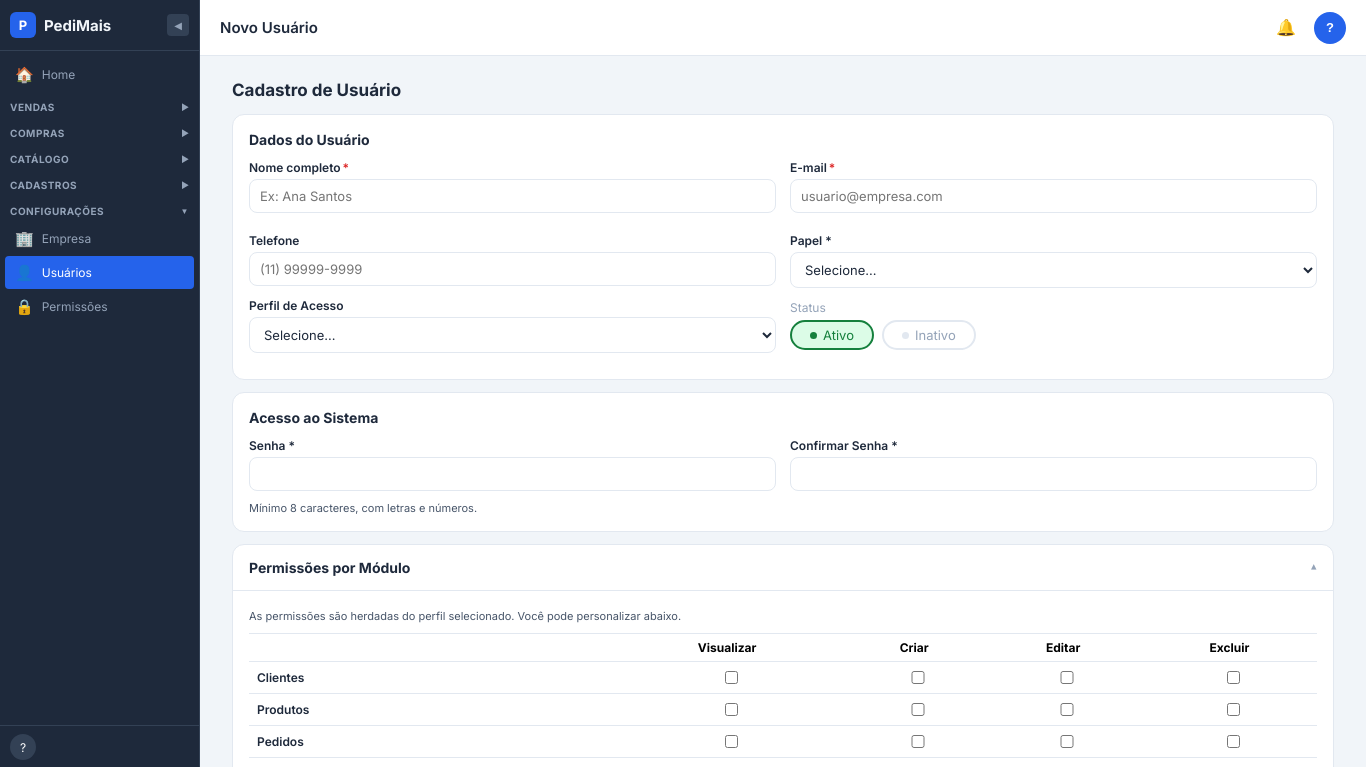
UserFormView › includes Compras e Contas a Pagar in the grid, pre-checked for the Admin profile
The image size is (1366, 767).
Select "Admin" in the dropdown with test id "profile" at (512, 335), box [249,317,776,353]
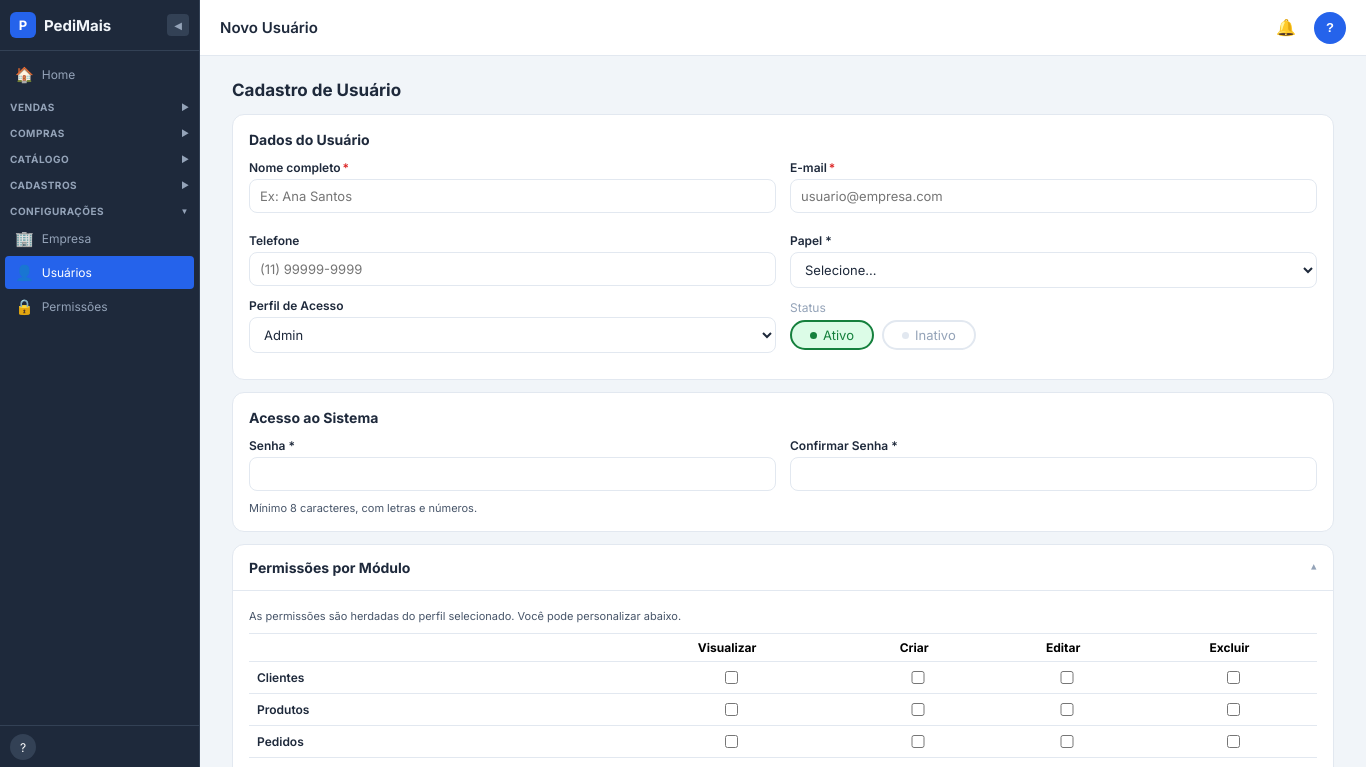
Select "Admin" in the dropdown with test id "profile" at (512, 335), box [249,317,776,353]
(page scrolled)
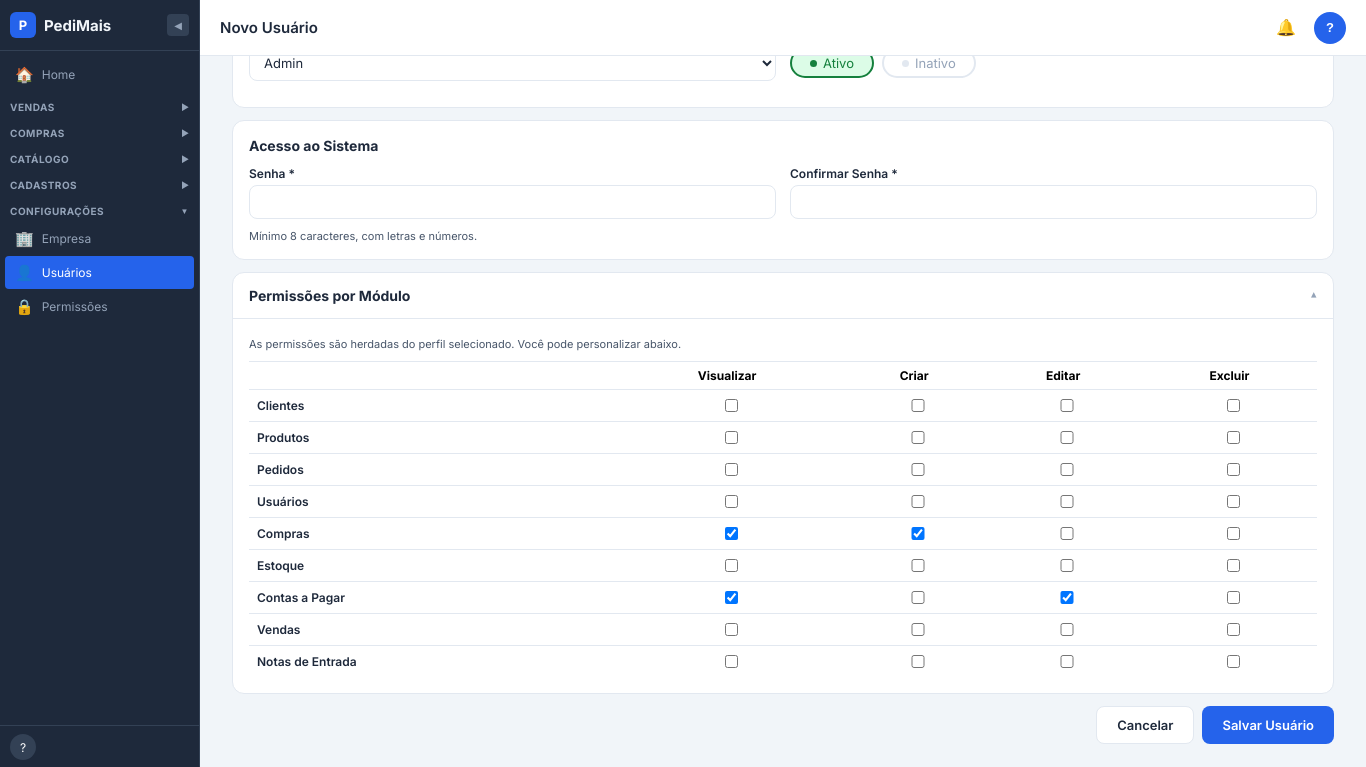
Expected: the text "Contas a Pagar" is shown, [249,582,610,614]
Expected: the checkbox with test id "perm-PURCHASE-VIEW" is checked, [622,527,840,540]
Expected: the checkbox with test id "perm-PAYABLE-EDIT" is checked, [996,591,1138,604]
